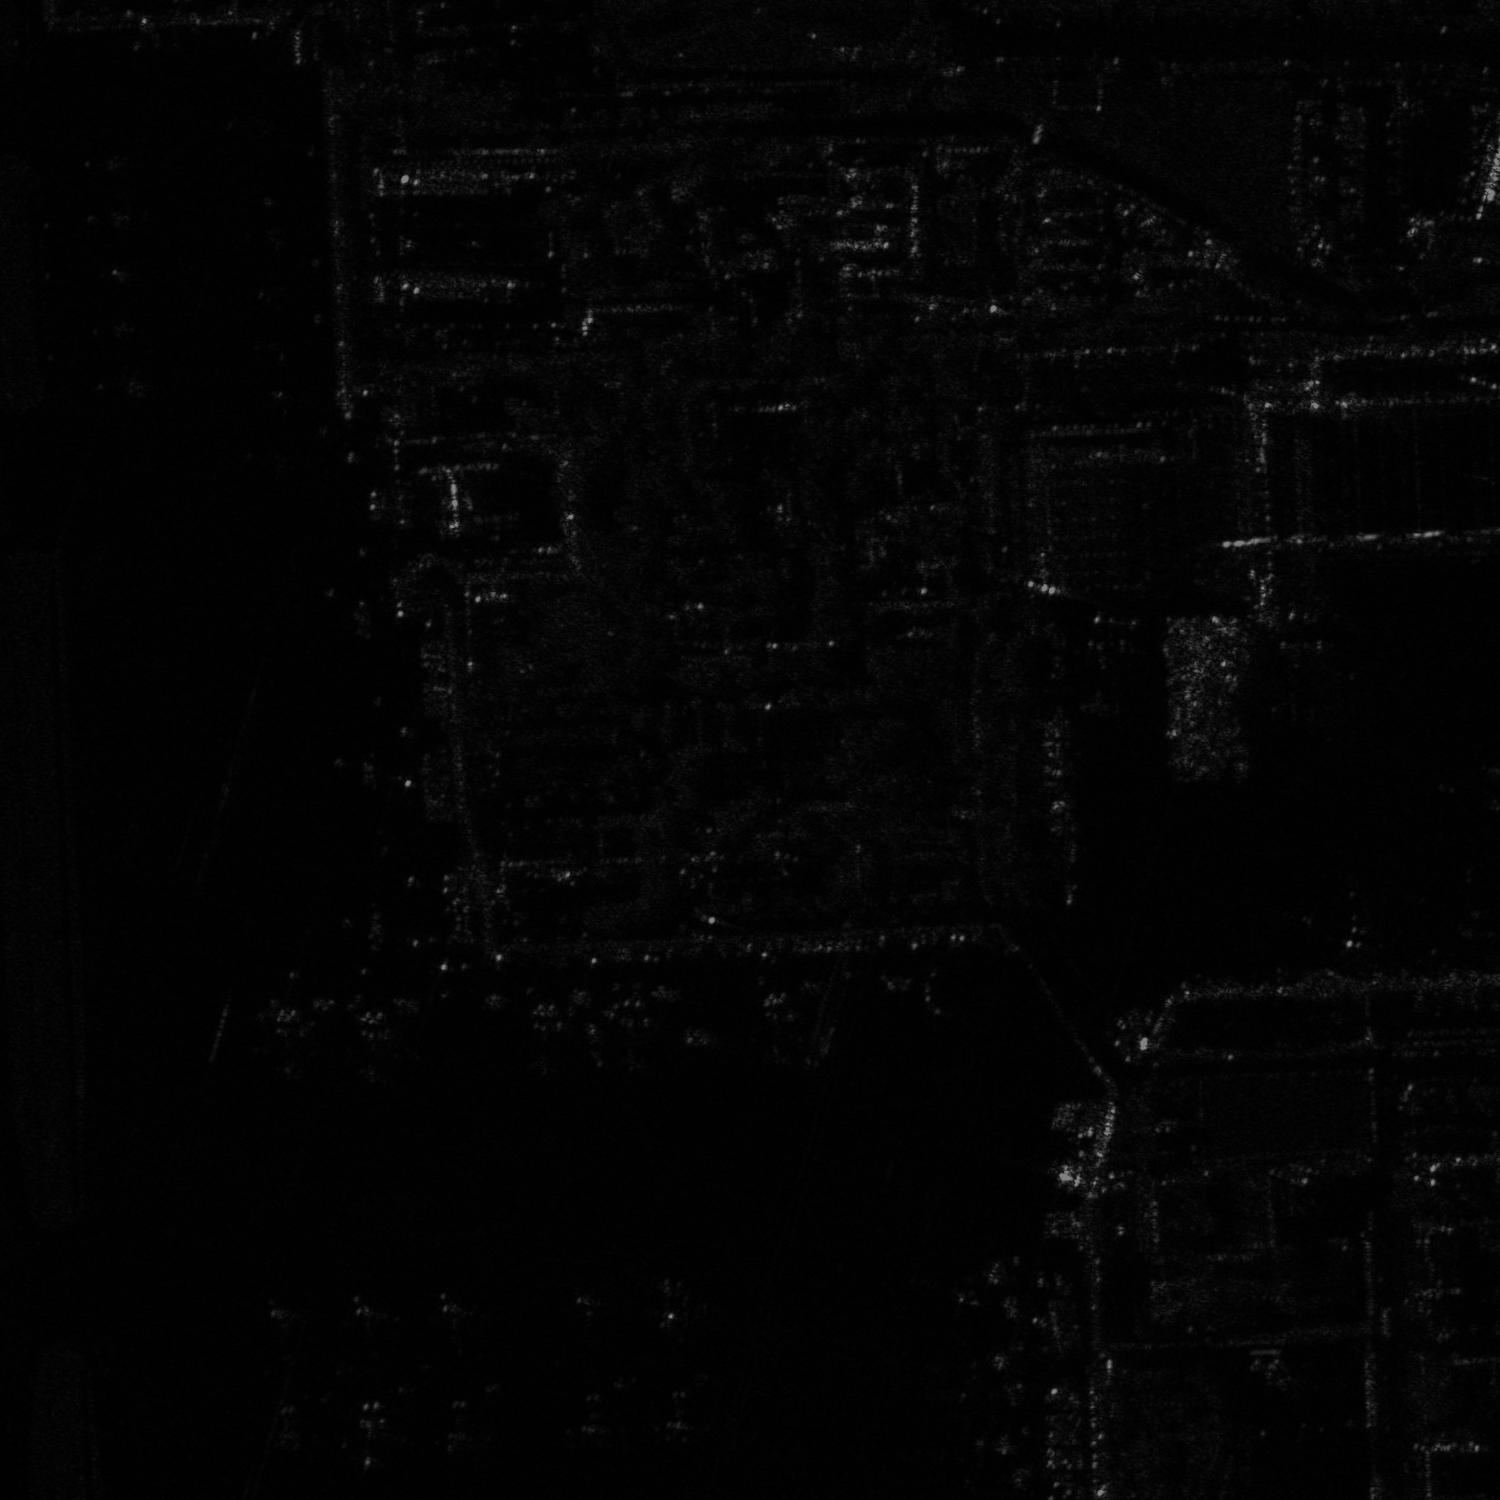A220: (555, 1390, 629, 1452)
A320/321: (245, 1001, 323, 1084)
ARJ21: (740, 990, 828, 1074), (636, 1387, 725, 1449), (422, 1393, 504, 1457), (251, 1402, 321, 1459), (82, 199, 140, 236), (98, 254, 148, 291)
Boeing737: (328, 1001, 431, 1091), (1262, 637, 1359, 727), (510, 990, 585, 1082), (330, 1391, 411, 1477), (1074, 632, 1147, 718)
other: (1280, 871, 1402, 963), (913, 1418, 1025, 1492), (907, 1337, 1019, 1409), (593, 985, 670, 1078), (630, 1265, 721, 1343), (913, 1262, 1008, 1327), (555, 1277, 637, 1348), (416, 1291, 484, 1357), (245, 1297, 312, 1361), (337, 1295, 404, 1348), (91, 364, 154, 402), (85, 309, 146, 349), (82, 141, 136, 179)
